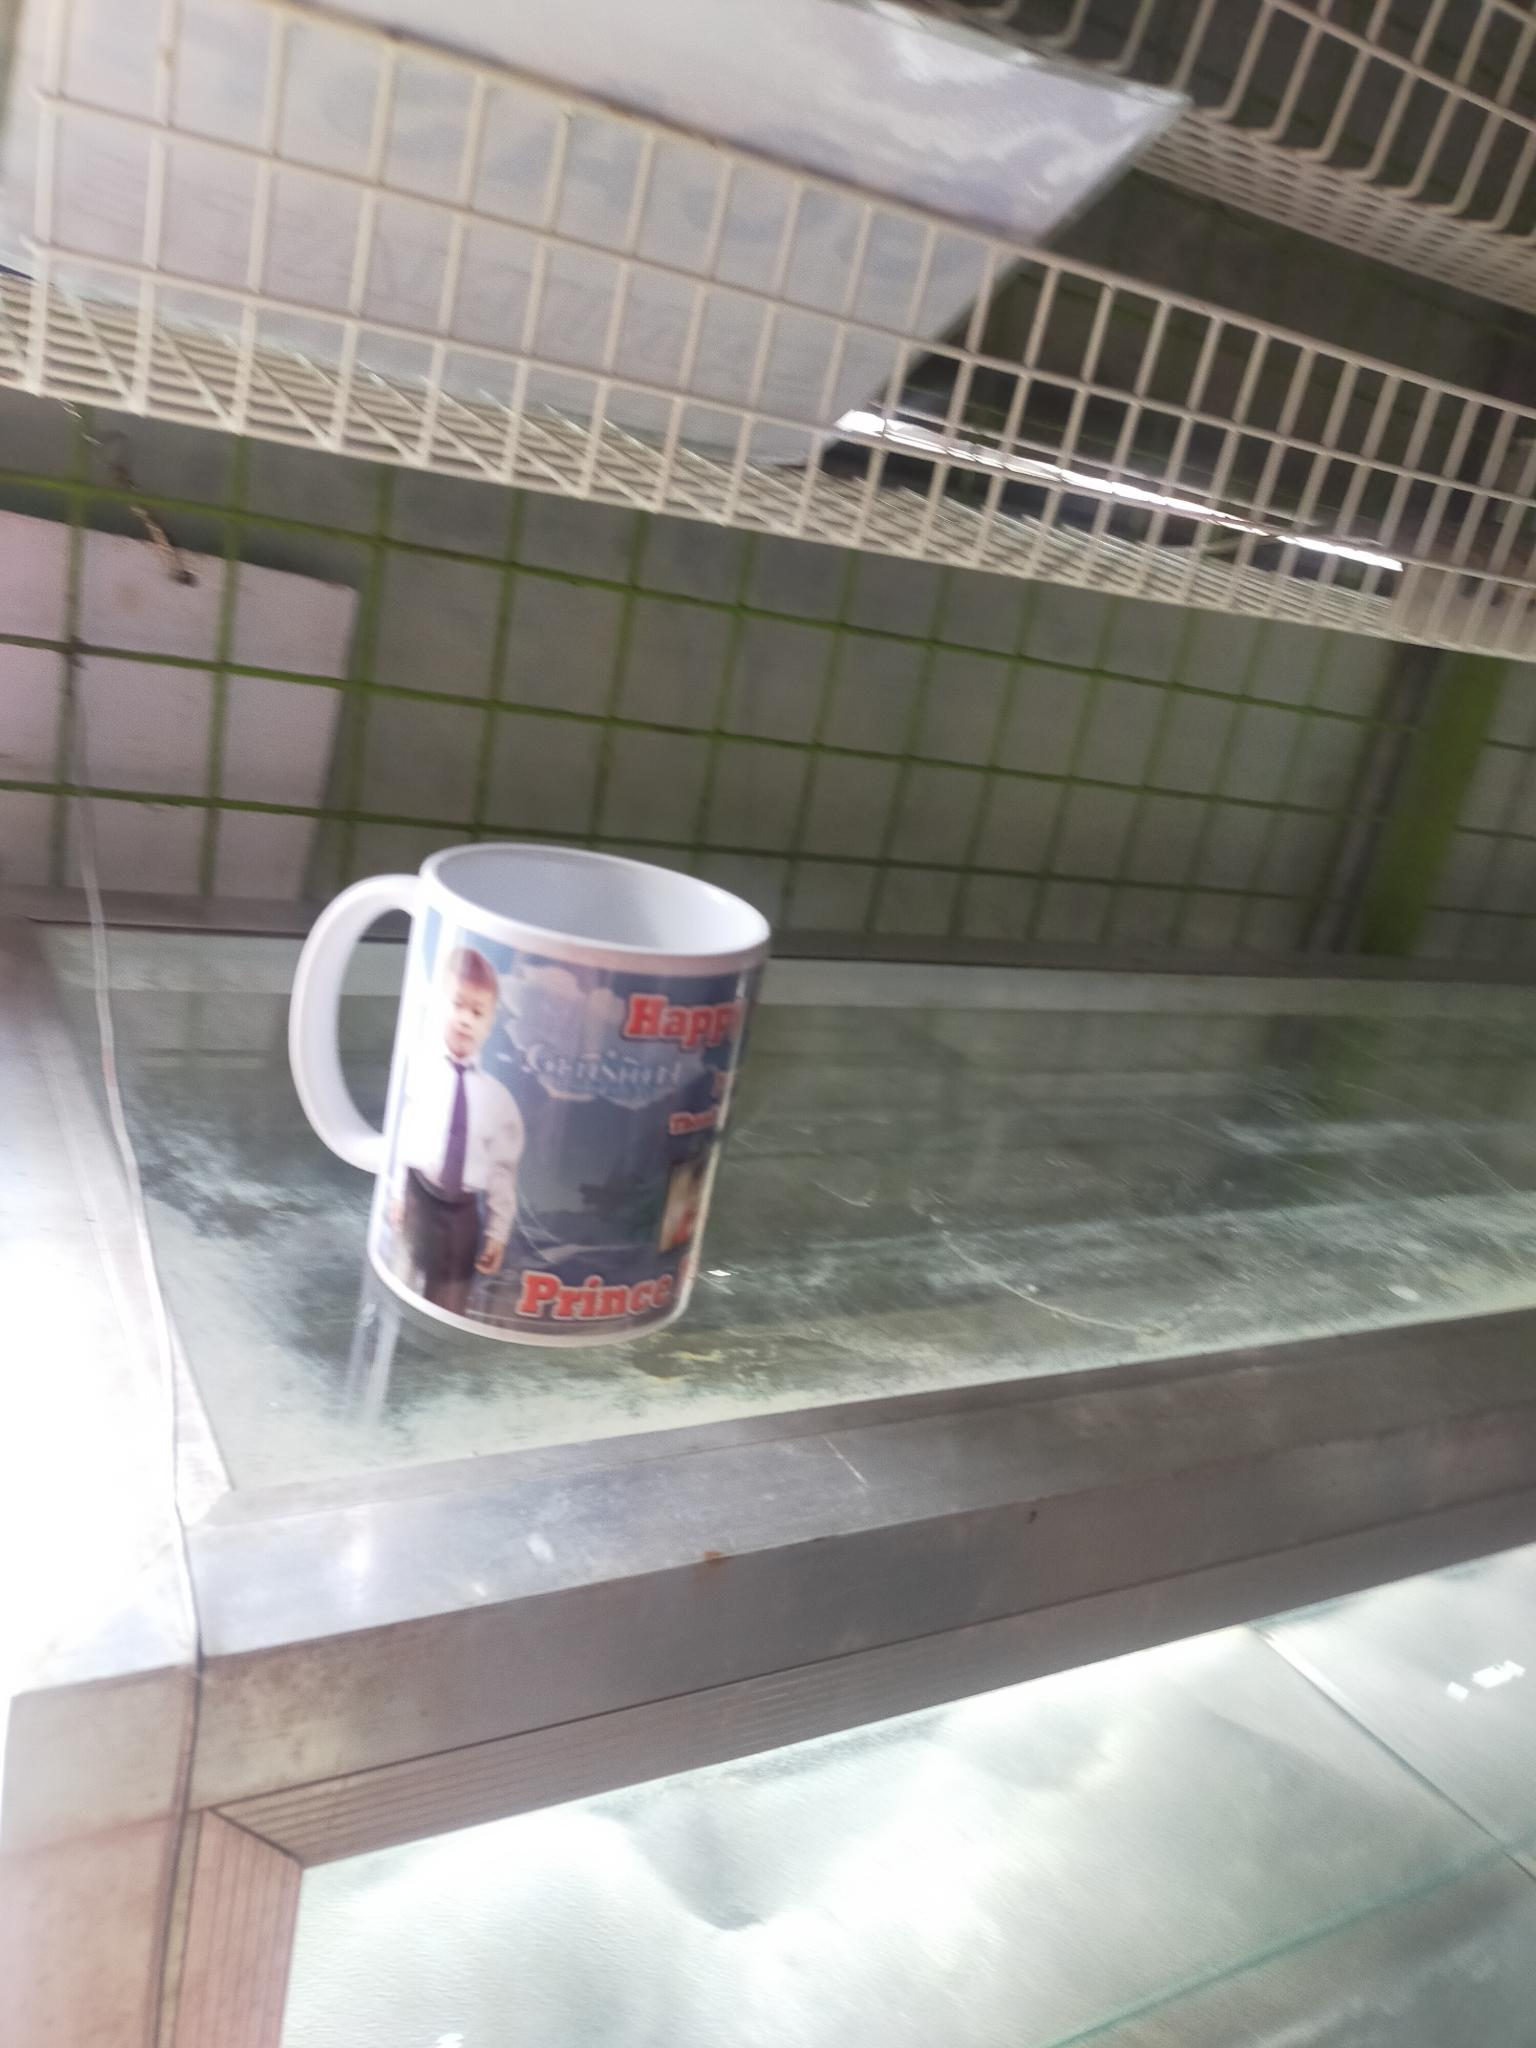Coffee Mug: (292, 842, 770, 1351)
